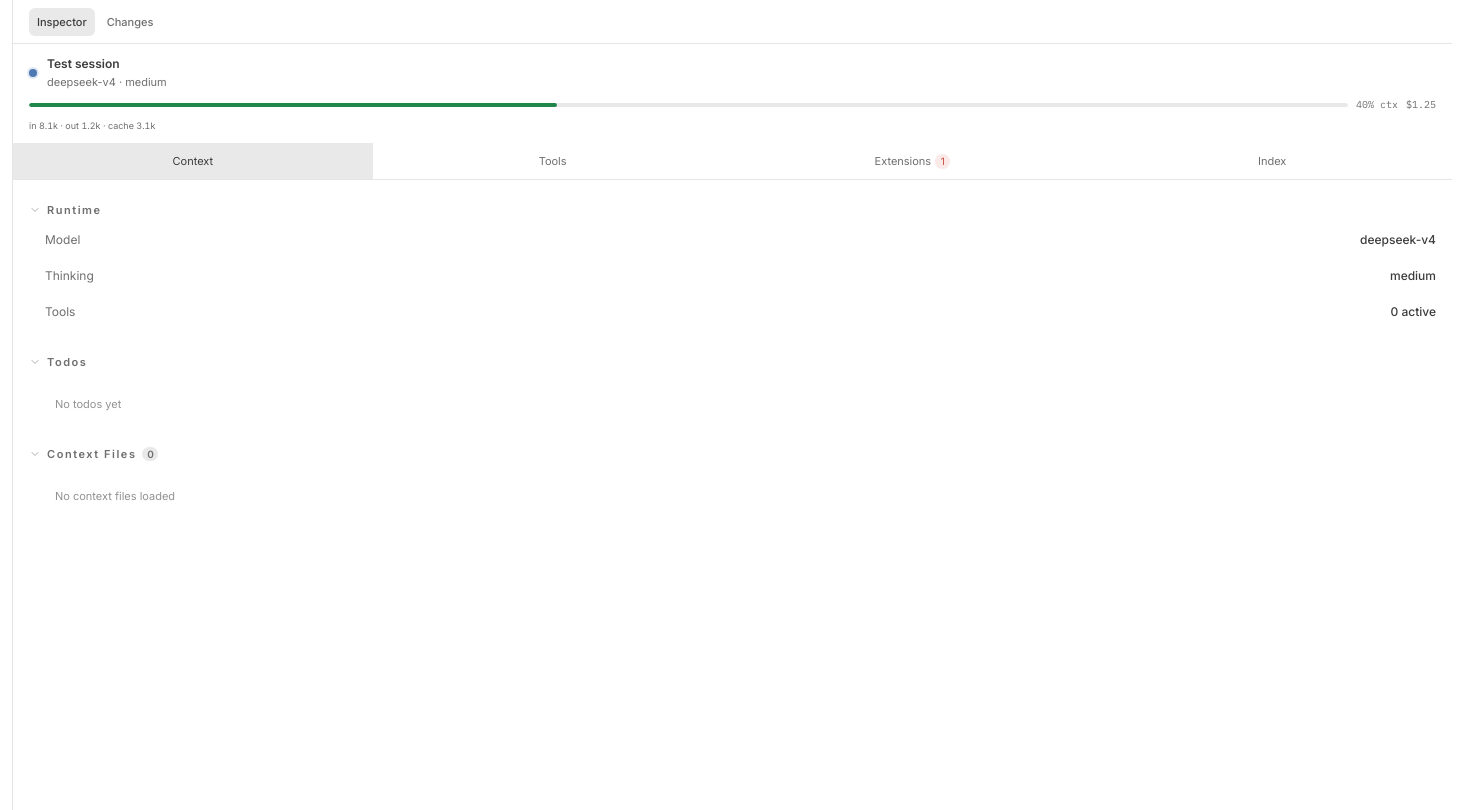
Scenario: ResourceInspector › extensions tab lists MCP servers with status, tool count, and failure age
The width and height of the screenshot is (1464, 810).
What coordinates should you click on to do the following:
click the button "Extensions 1"
I would click on:
 (912, 161)
Its box is top-left (732, 143), bottom-right (1092, 179).
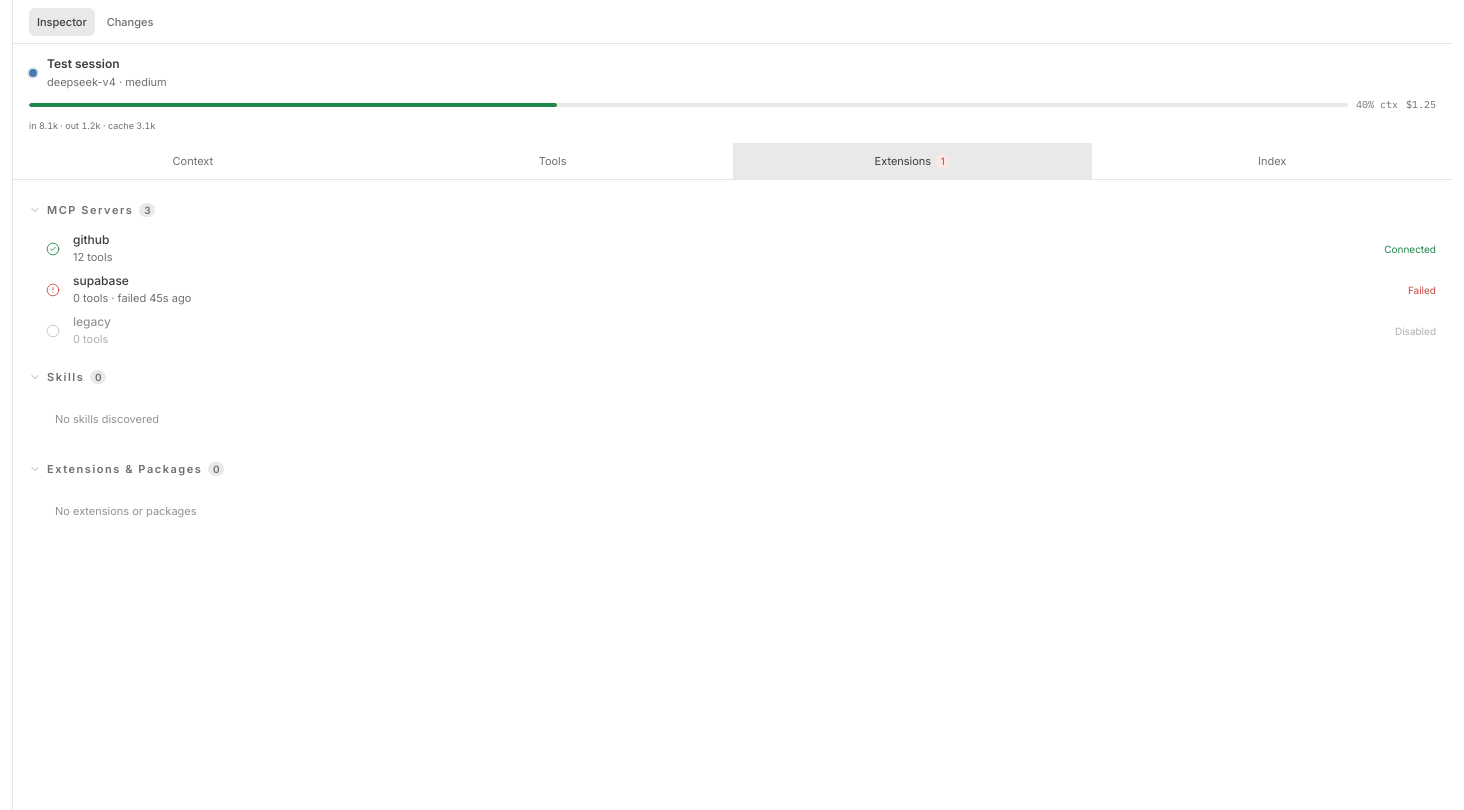
Check: the text "MCP Servers" is shown, box top-left (47, 202), bottom-right (133, 218)
Check: the text "github" is shown, box top-left (73, 232), bottom-right (109, 247)
Check: the text "12 tools" is shown, box top-left (73, 250), bottom-right (112, 264)
